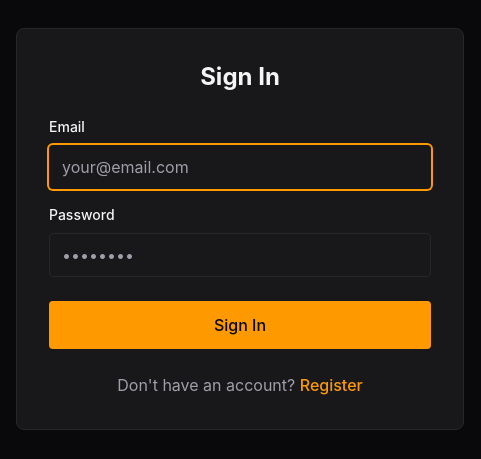
Phase 1+2: Foundation, Auth Store & Auth UI › LoginPage (AUTH-02) › validates email format on blur (AUTH-02)
In the field labelled "Email": (240, 167) [49,145,431,189], type "invalid"
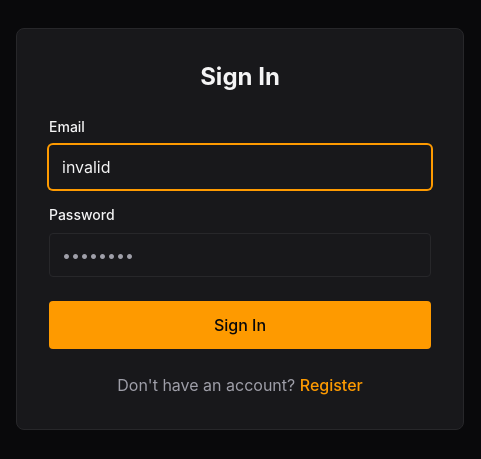
Leave the field labelled "Email", box [49,145,431,189]
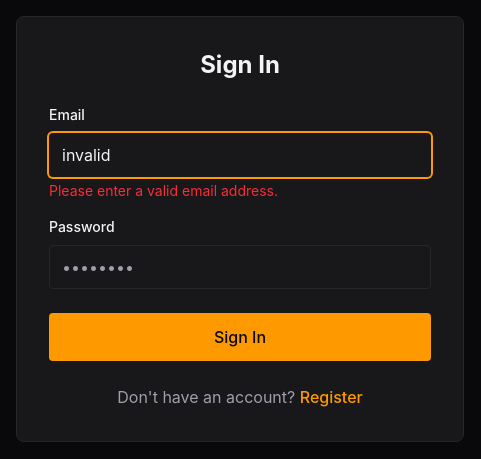
Result: the text "Please enter a valid email address." is shown at [49,182,278,199]
